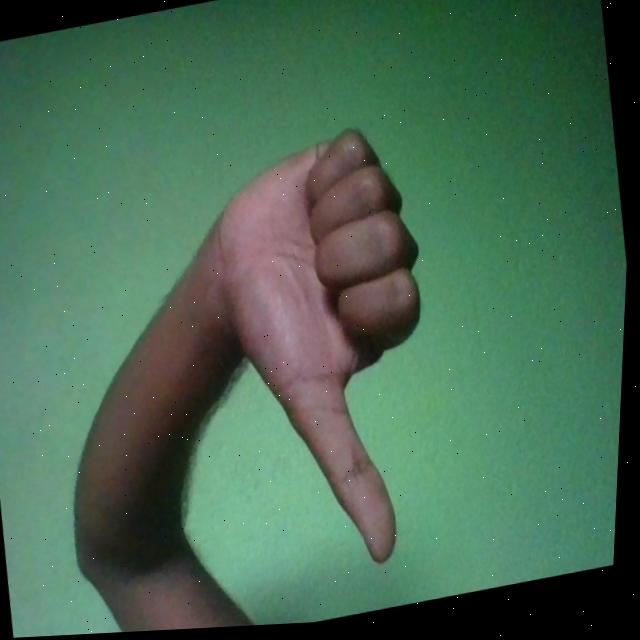Dislike: (194, 121, 469, 592)
